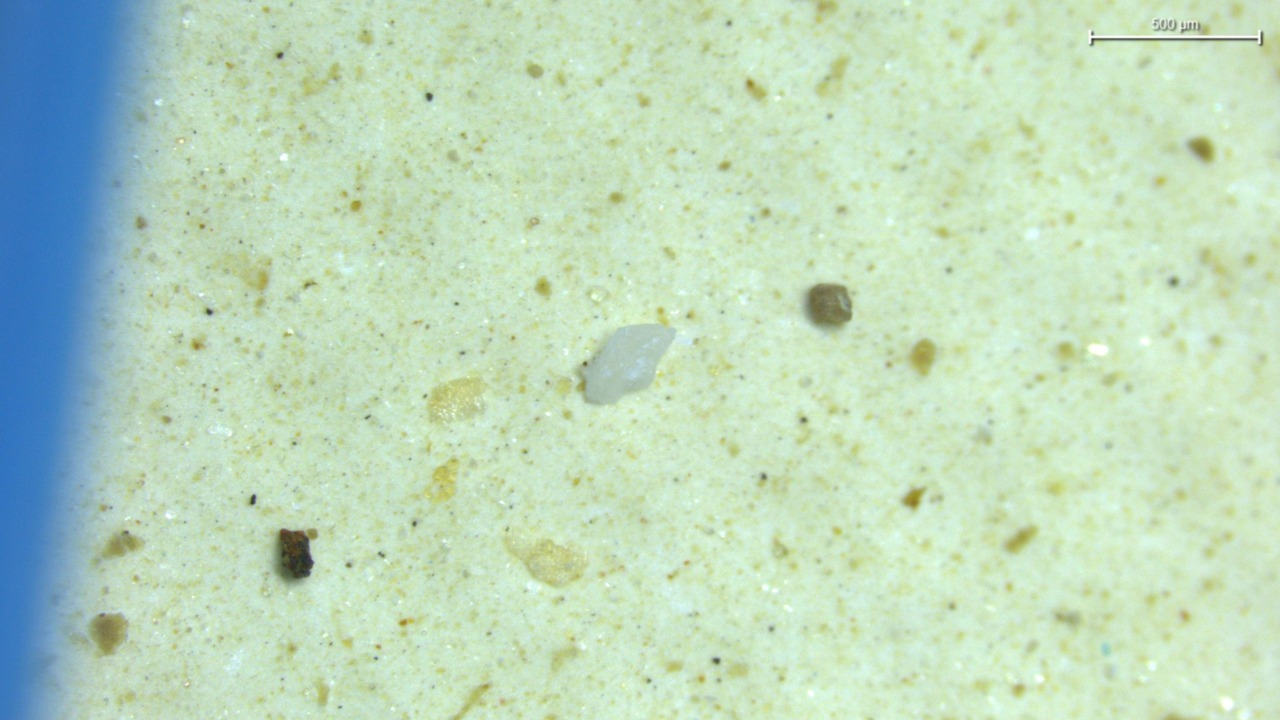microplastic_fragment: (584, 324, 675, 404), (504, 533, 588, 586), (427, 377, 485, 423)
